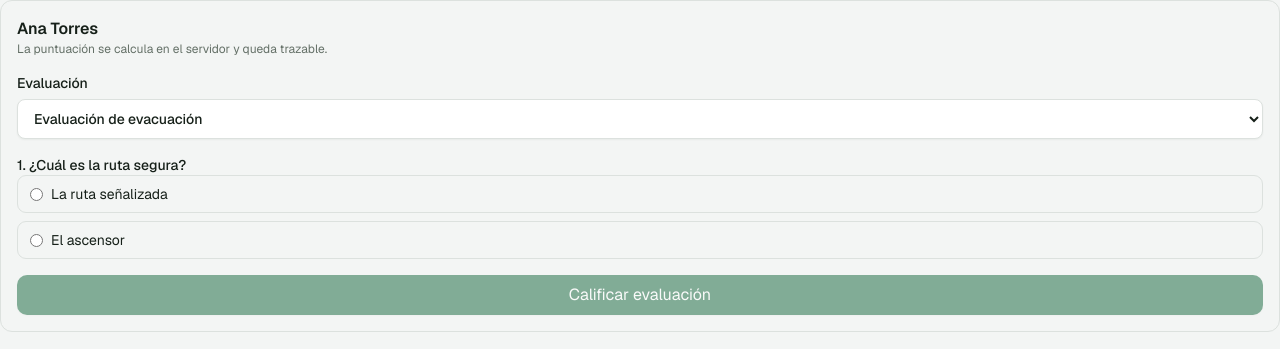
Test: TrainingEvaluationForm › builds the server payload from guided answers
expect the button "Calificar evaluación" is disabled: met, box [17,275,1263,315]
Click the radio button labelled "La ruta señalizada".
click(36, 194)  # box [30,188,43,201]
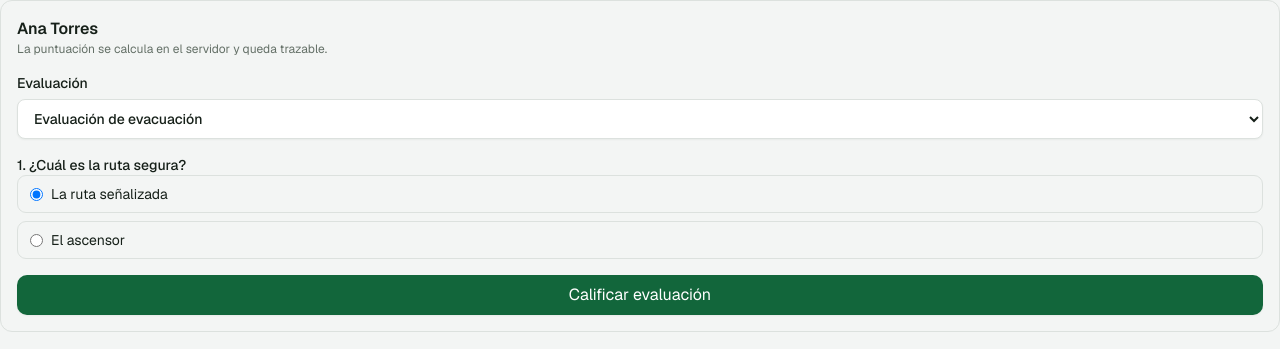
expect the button "Calificar evaluación" is enabled: met, box [17,275,1263,315]
